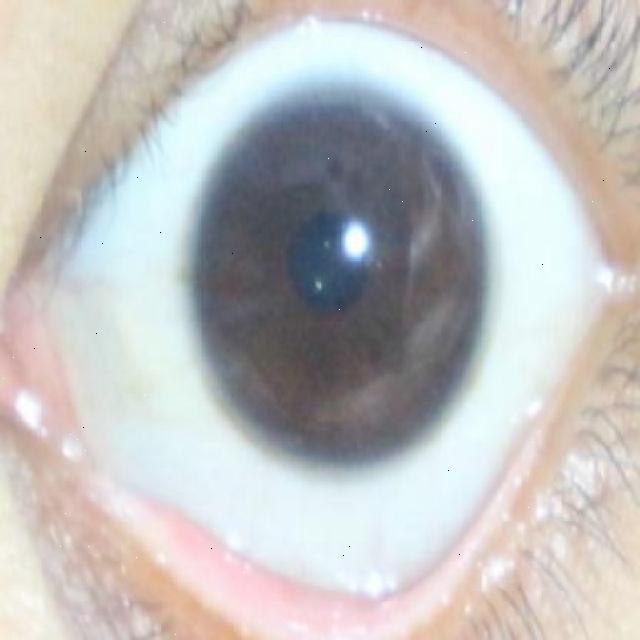Normal: (191, 83, 491, 460)
